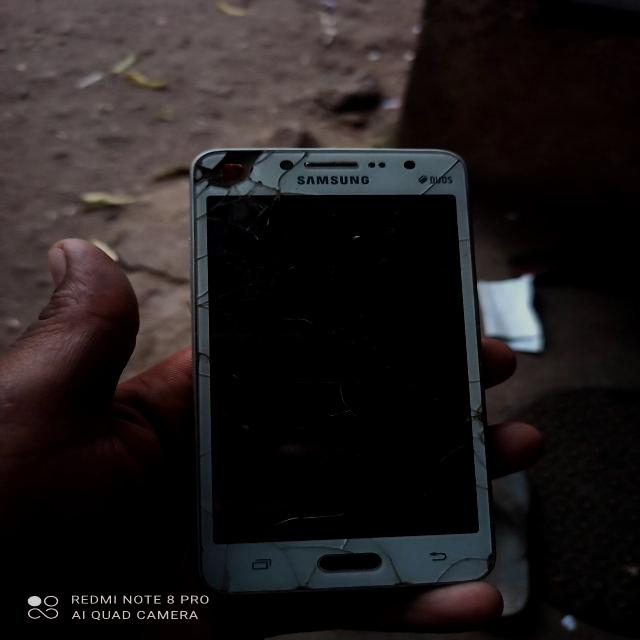phone: (190, 136, 510, 600)
